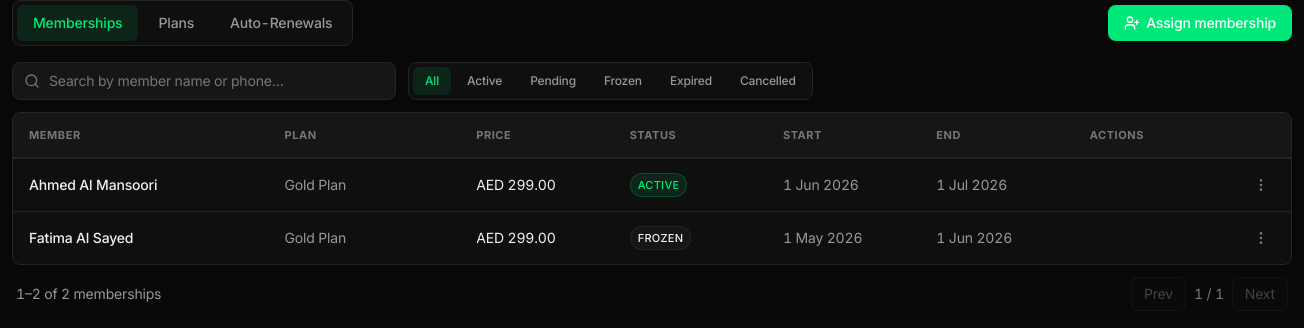
Test case: MembershipsClient › switches to Auto-Renewals tab
Click the button "Auto-Renewals": coordinates (281, 23) [214,5,348,41]
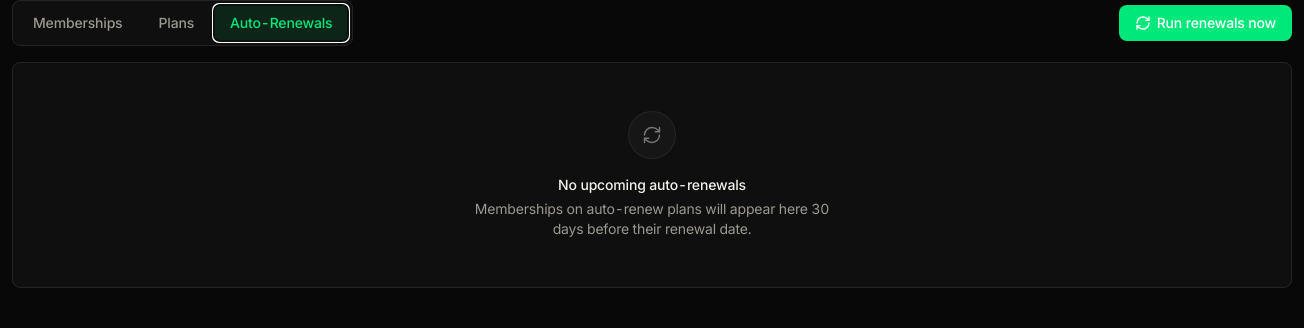
Now the heading "No upcoming auto-renewals" is shown, box [558,175,746,195]
